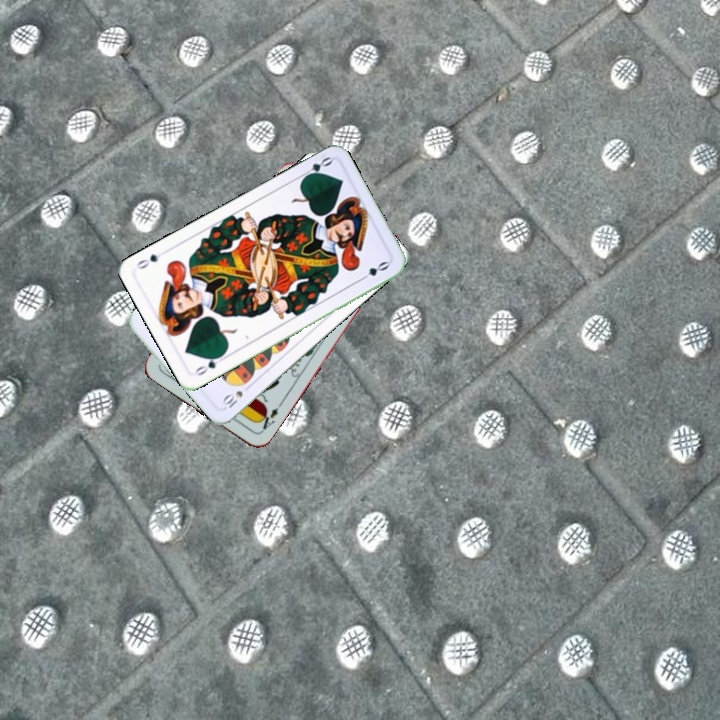EA: (253, 403, 281, 436)
GO: (296, 152, 335, 182), (190, 350, 228, 378)
S10: (218, 381, 254, 411)
